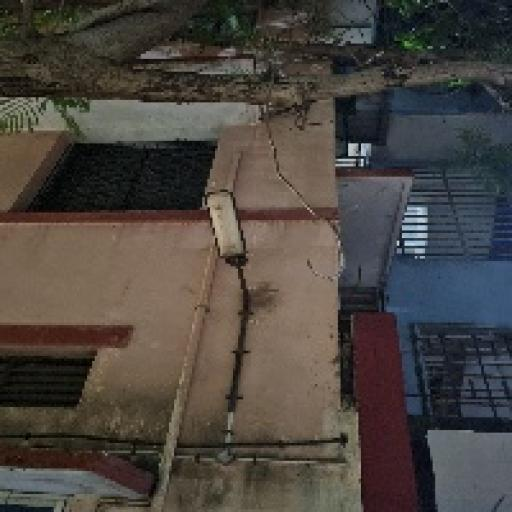Not Working: (185, 176, 268, 283)
